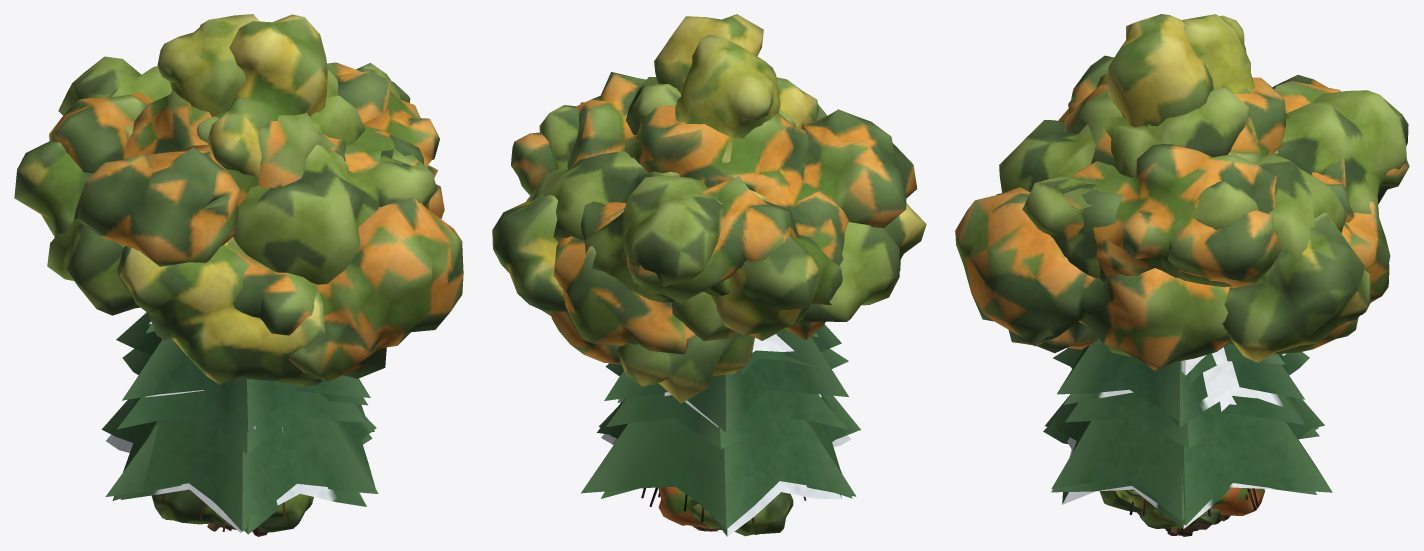
File: env-flora.hq.glb
3 renders of one model, left to right at view 1: azimuth 30°, elevation 25°; view 2: azimuth 150°, elevation 25°; view 3: azimuth 270°, elevation 25°, orthographic. The views are drawn at different scales.
Parts seen in each view (by area): view 1: oak-a, oak-b, oak-green-a, fir-a, oak-green-b, birch-a, fir-b, birch-b, fir-snow-a, brush-d, brush-a; view 2: oak-a, oak-green-a, fir-a, oak-green-b, birch-b, fir-b, birch-a, oak-b, fir-snow-a, brush-d, brush-b; view 3: oak-green-a, oak-b, oak-a, fir-a, oak-green-b, fir-b, birch-a, fir-snow-a, birch-b, brush-b, brush-d.
Part boxes in pixels (x1=…): oak-a: x1=49, y1=62, x2=439, y2=536; oak-b: x1=224, y1=112, x2=463, y2=381; oak-green-a: x1=47, y1=56, x2=437, y2=529; fir-a: x1=102, y1=312, x2=376, y2=531; oak-green-b: x1=14, y1=124, x2=325, y2=386; birch-a: x1=207, y1=14, x2=327, y2=177; fir-b: x1=105, y1=348, x2=378, y2=534; birch-b: x1=157, y1=14, x2=258, y2=116; fir-snow-a: x1=106, y1=321, x2=372, y2=533; brush-d: x1=151, y1=489, x2=313, y2=524; brush-a: x1=258, y1=493, x2=311, y2=532; oak-a: x1=511, y1=72, x2=917, y2=354; oak-green-a: x1=526, y1=77, x2=899, y2=322; fir-a: x1=581, y1=324, x2=860, y2=529; oak-green-b: x1=492, y1=171, x2=926, y2=531; birch-b: x1=675, y1=35, x2=780, y2=162; fir-b: x1=599, y1=348, x2=856, y2=531; birch-a: x1=654, y1=14, x2=818, y2=128; oak-b: x1=550, y1=201, x2=825, y2=364; fir-snow-a: x1=601, y1=392, x2=851, y2=536; brush-d: x1=691, y1=492, x2=793, y2=536; brush-b: x1=658, y1=486, x2=721, y2=529; oak-green-a: x1=999, y1=88, x2=1408, y2=531; oak-b: x1=955, y1=83, x2=1358, y2=531; oak-a: x1=1050, y1=55, x2=1409, y2=535; fir-a: x1=1045, y1=338, x2=1332, y2=535; oak-green-b: x1=1178, y1=150, x2=1370, y2=536; fir-b: x1=1043, y1=343, x2=1318, y2=520; birch-a: x1=1096, y1=14, x2=1213, y2=127; fir-snow-a: x1=1062, y1=347, x2=1319, y2=528; birch-b: x1=1182, y1=14, x2=1254, y2=93; brush-b: x1=1210, y1=487, x2=1264, y2=515; brush-d: x1=1139, y1=508, x2=1194, y2=528.
Size of the model in its own units: 2.85 by 3.71 by 3.03.
Materials: 1 (1 with a texture image).
